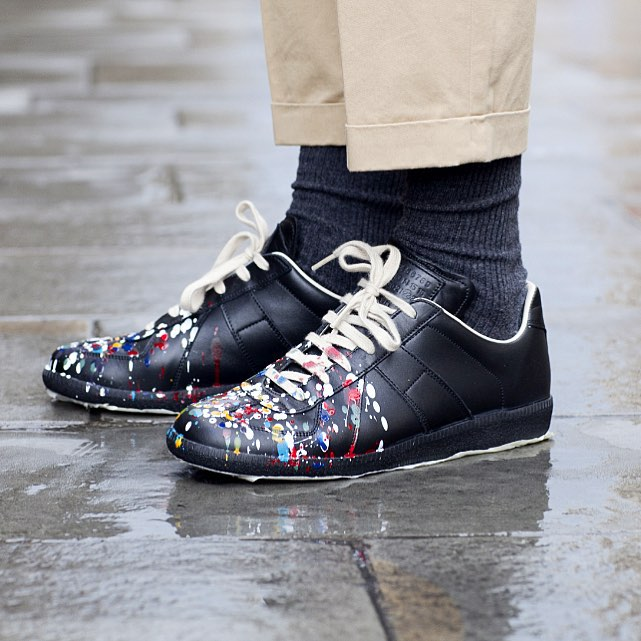sneaker: (154, 156, 568, 499), (27, 121, 387, 439)
